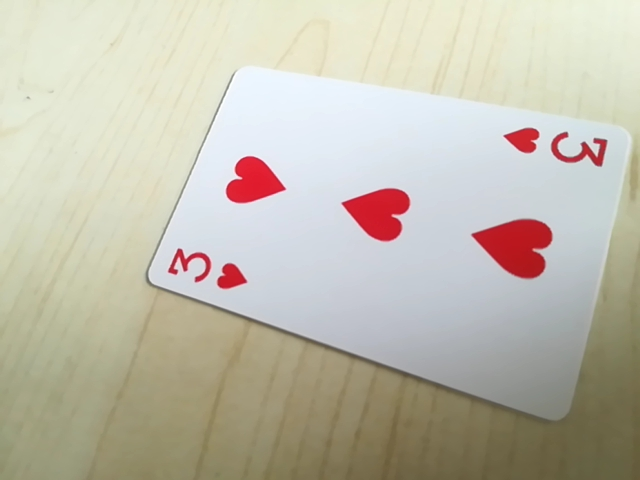hx 3: (500, 123, 611, 173), (161, 240, 256, 296)
